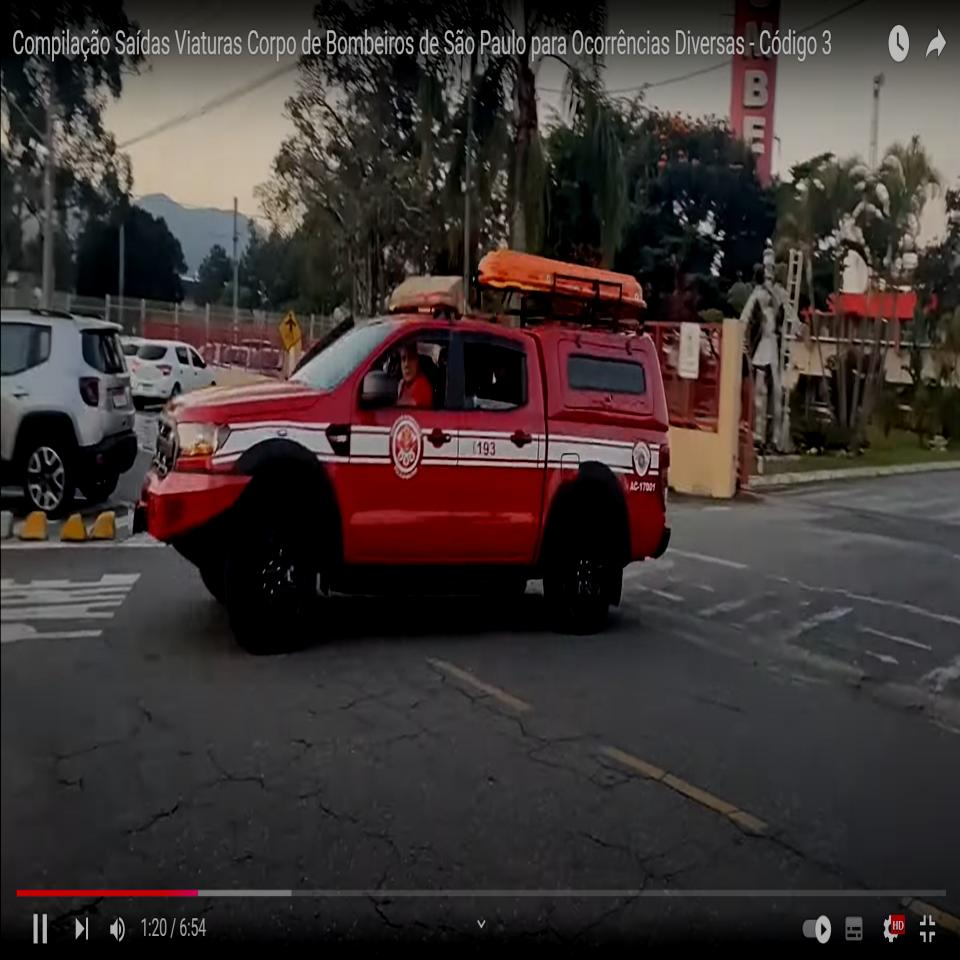bombeiro: (139, 248, 671, 652)
